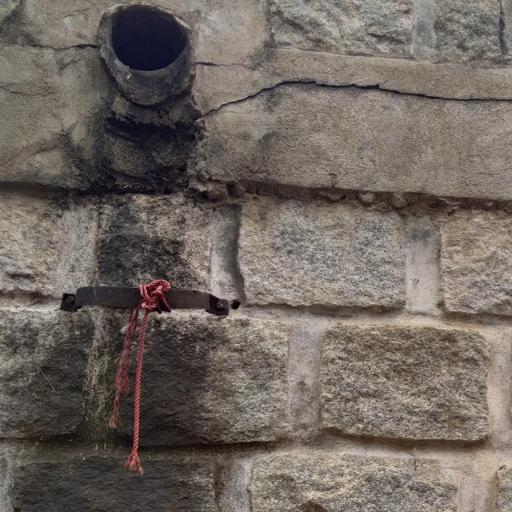stain: (40, 28, 238, 512)
